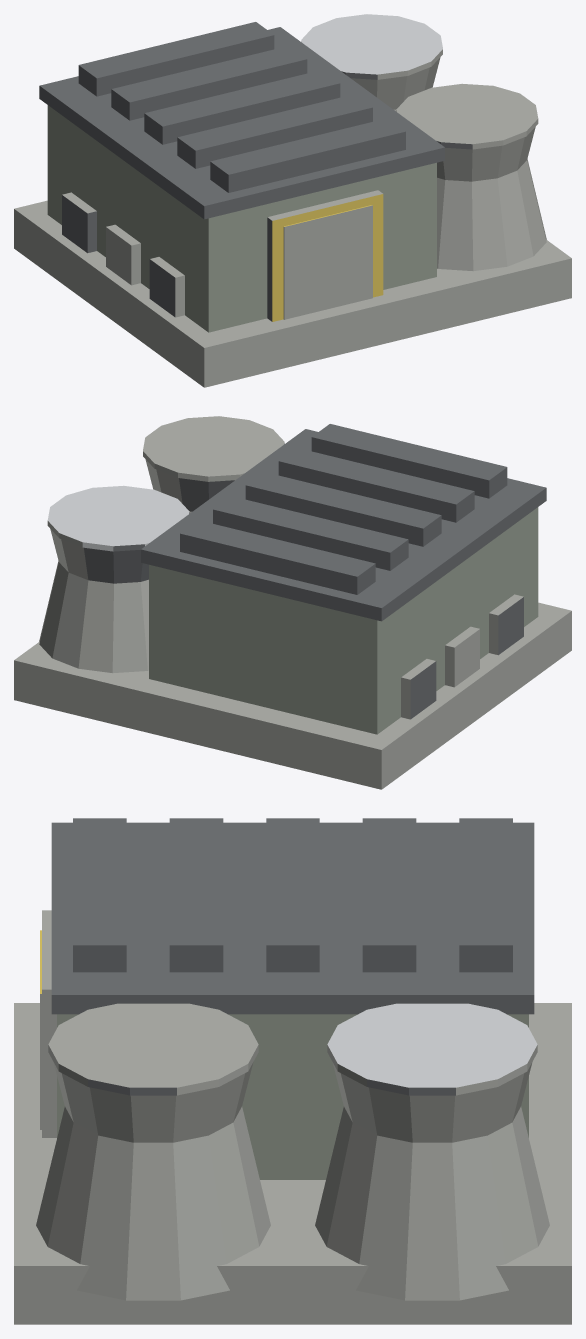
Rendered from power_plant.glb.
3 views of the same model, one above another, from view 1: azimuth 30°, elevation 25°; view 2: azimuth 150°, elevation 25°; view 3: azimuth 270°, elevation 25° (orthographic). The views are drawn at different scales.
Parts seen in each view (by area): view 1: power_plant; view 2: power_plant; view 3: power_plant.
Boxes of the visible parts, <box> form: power_plant: <box>14,14,571,387</box>; power_plant: <box>14,416,571,789</box>; power_plant: <box>14,818,571,1324</box>.
Bounding box in the file's own units: 6.02 × 2.83 × 5.2.
